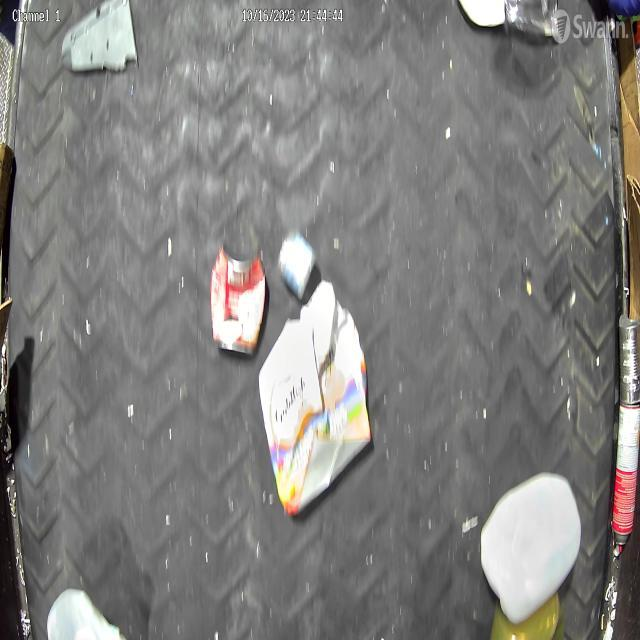can: (210, 239, 268, 357), (618, 317, 640, 407)
milk_jug: (480, 469, 582, 624)
